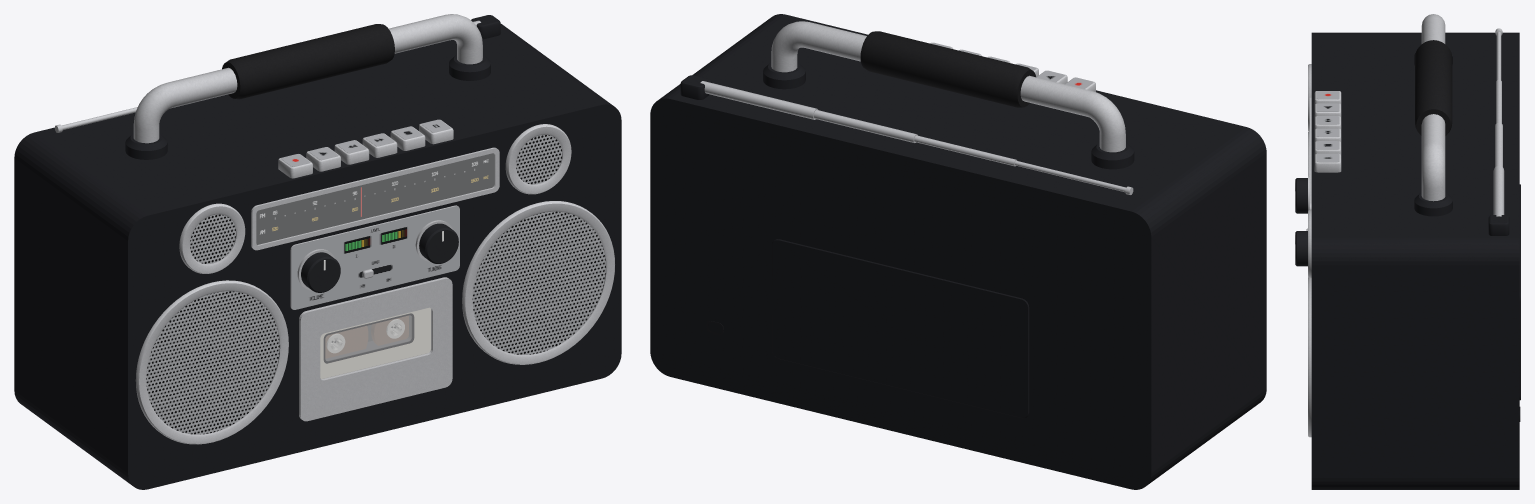
The model's file is innerscene-boombox.glb.
3 renders of one model, left to right at view 1: azimuth 30°, elevation 25°; view 2: azimuth 150°, elevation 25°; view 3: azimuth 270°, elevation 25°, orthographic. The views are drawn at different scales.
Parts seen in each view (by area): view 1: Body, Speaker grilles, Deck door, Carry handle, Speaker trim rings, Tuning dial window, Upper front panel, Piano keys, Volume and tuning knobs, Deck cassette label, Deck cassette windows, Deck cassette tape and hubs (+2 smaller); view 2: Body, Back: battery door and mains socket, Carry handle, Telescopic antenna, Piano keys; view 3: Body, Carry handle, Piano keys, Telescopic antenna, Speaker trim rings, Volume and tuning knobs, Back: battery door and mains socket, Tuning dial window.
Part boxes in pixels (x1,y1,x2,y2): Body: (14,24,621,489); Speaker grilles: (146,135,605,434); Deck door: (299,277,452,421); Carry handle: (125,14,490,159); Speaker trim rings: (135,124,614,444); Tuning dial window: (251,147,499,250); Upper front panel: (290,205,459,309); Piano keys: (278,119,453,178); Volume and tuning knobs: (297,220,458,292); Deck cassette label: (320,307,430,378); Deck cassette windows: (325,315,411,360); Deck cassette tape and hubs: (325,316,408,358); Body: (650,14,1266,489); Back: battery door and mains socket: (706,239,1029,418); Carry handle: (763,21,1134,169); Telescopic antenna: (680,75,1133,194); Piano keys: (930,42,1095,91); Body: (1311,32,1519,489); Carry handle: (1414,14,1452,216); Piano keys: (1314,91,1341,172); Telescopic antenna: (1488,28,1509,235); Speaker trim rings: (1308,64,1311,437); Volume and tuning knobs: (1295,176,1309,266); Back: battery door and mains socket: (1519,184,1520,421); Tuning dial window: (1309,97,1311,209).
Bounding box in the file's own units: 0.351 × 0.2366 × 0.1521.
Materials: 18 (18 with a texture image).
